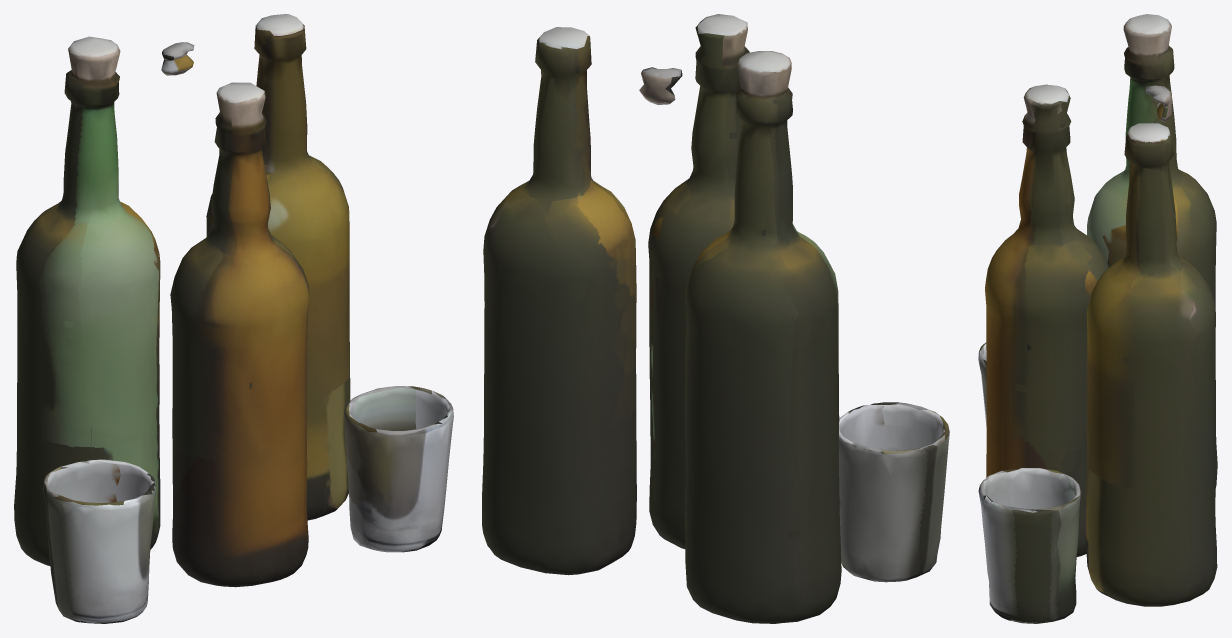
Rendered from botellas.glb.
3 renders of one model, left to right at view 1: azimuth 30°, elevation 25°; view 2: azimuth 150°, elevation 25°; view 3: azimuth 270°, elevation 25°, orthographic. The views are drawn at different scales.
Parts seen in each view (by area): view 1: temp_mesh.ply; view 2: temp_mesh.ply; view 3: temp_mesh.ply.
Boxes of the visible parts, x1,y1,x2,y2 form: temp_mesh.ply: [14, 14, 453, 623]; temp_mesh.ply: [482, 14, 949, 623]; temp_mesh.ply: [978, 14, 1217, 623].
Size of the model in its own units: 0.35 by 0.426 by 0.1947.
1 material, 1 textured.
